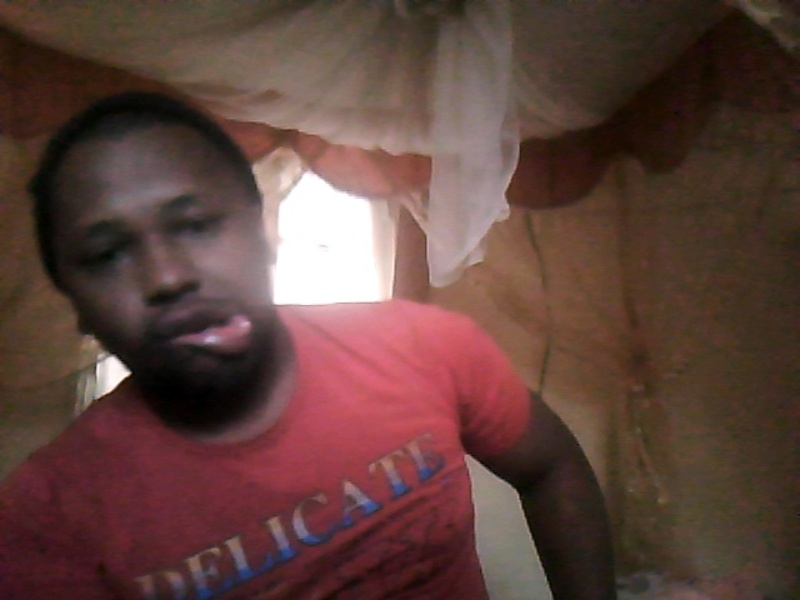TsisyArotava: (29, 94, 292, 399)
